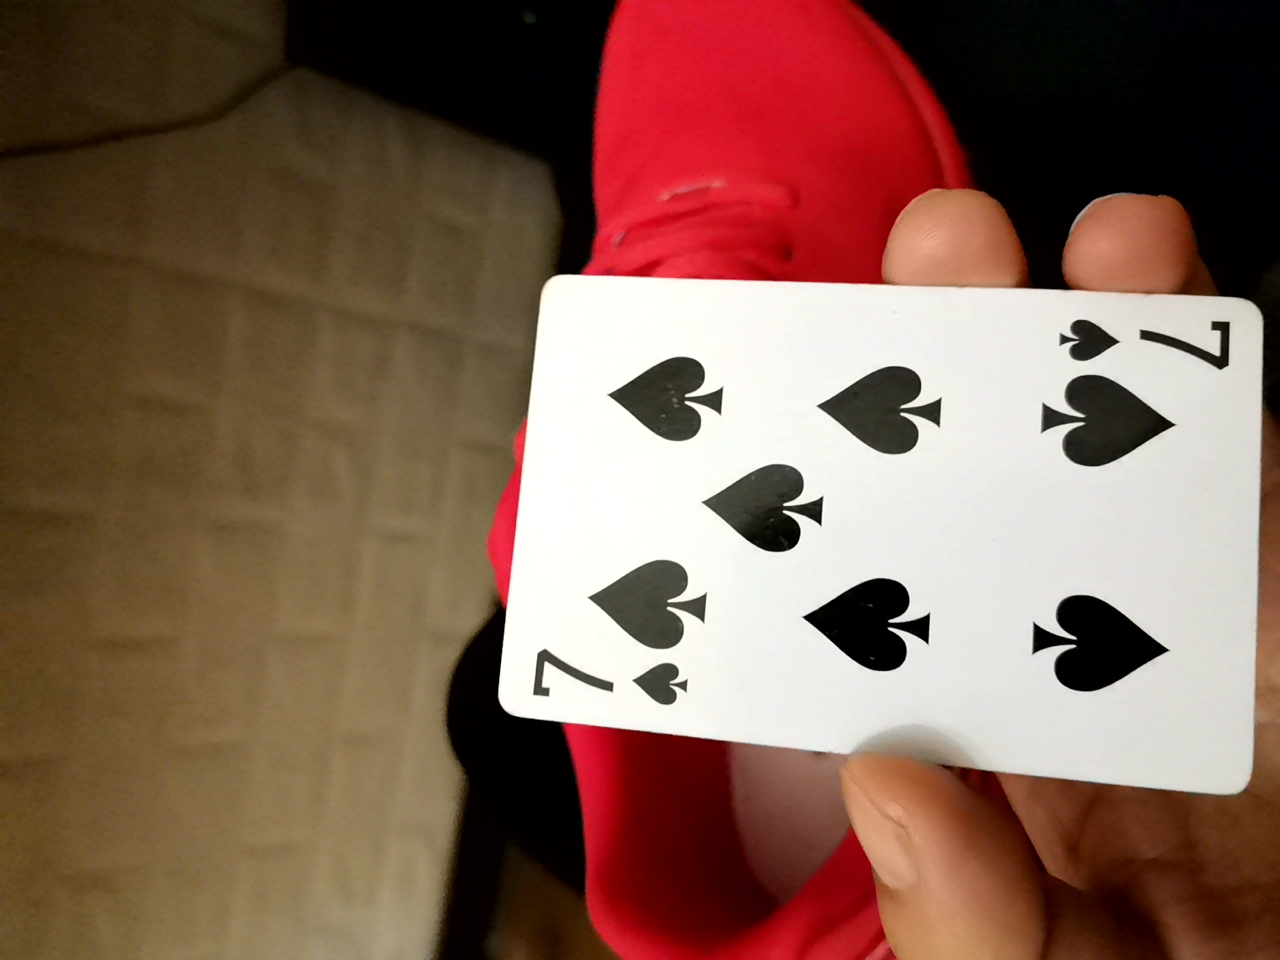ht 7: (492, 299, 1245, 783)
